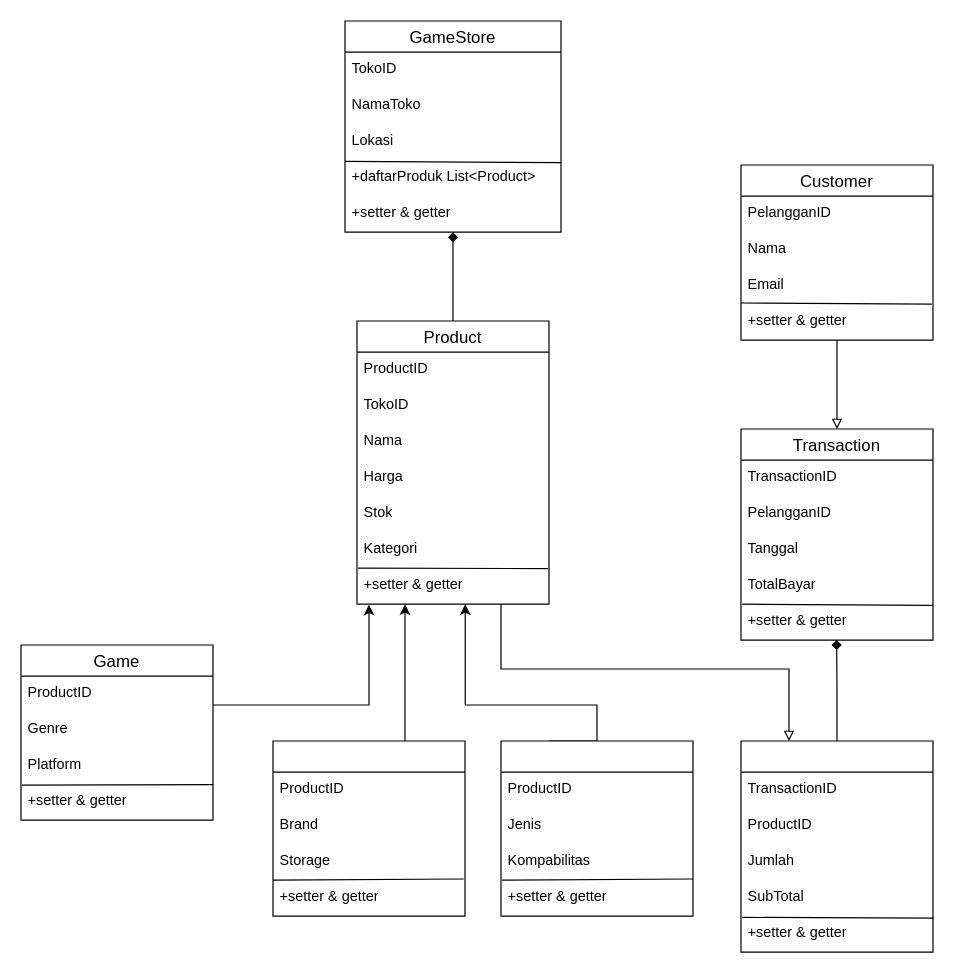
Some shapes in this 956 by 977 pixel diagram are drawn without their labels. Here are the shapes that lost their labels. From the top down, the box of each, then its label:
(272, 740, 465, 916): Console
(500, 740, 693, 916): Accessory
(740, 740, 933, 952): TransactionDetail
